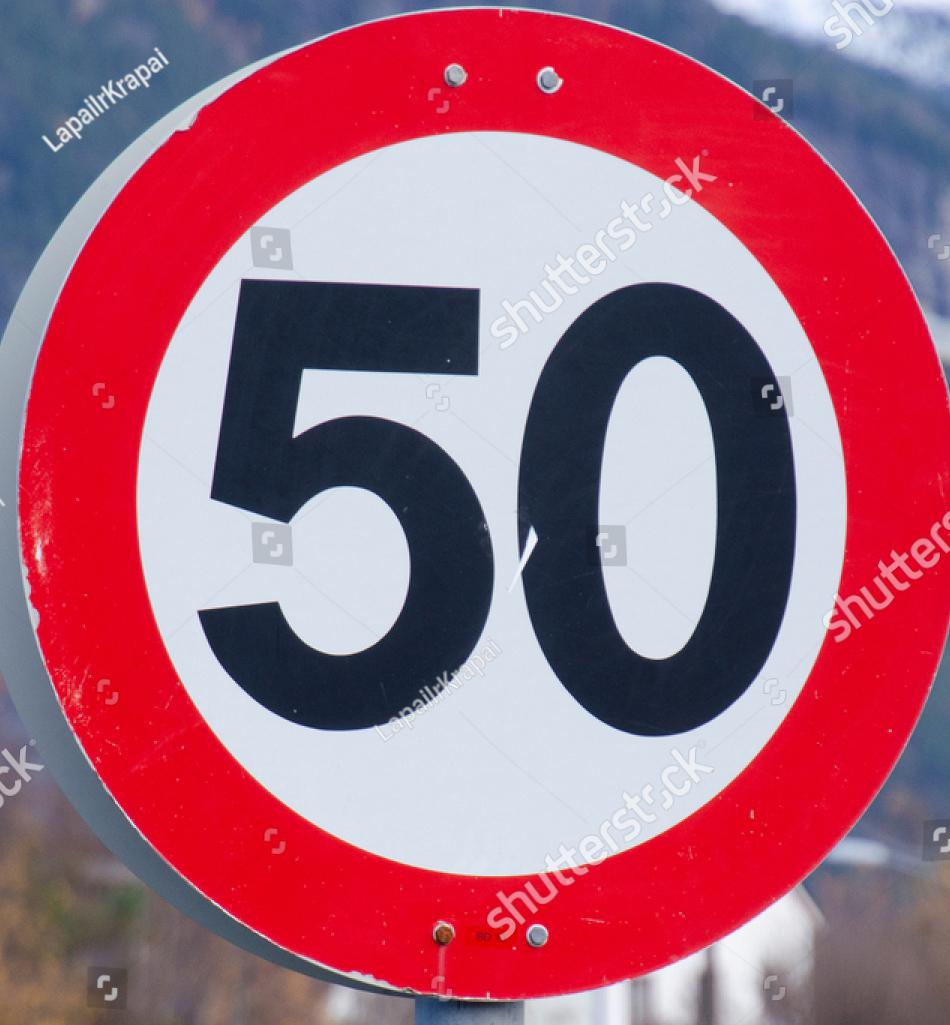Speed Limit -50-: (0, 1, 949, 1024)
